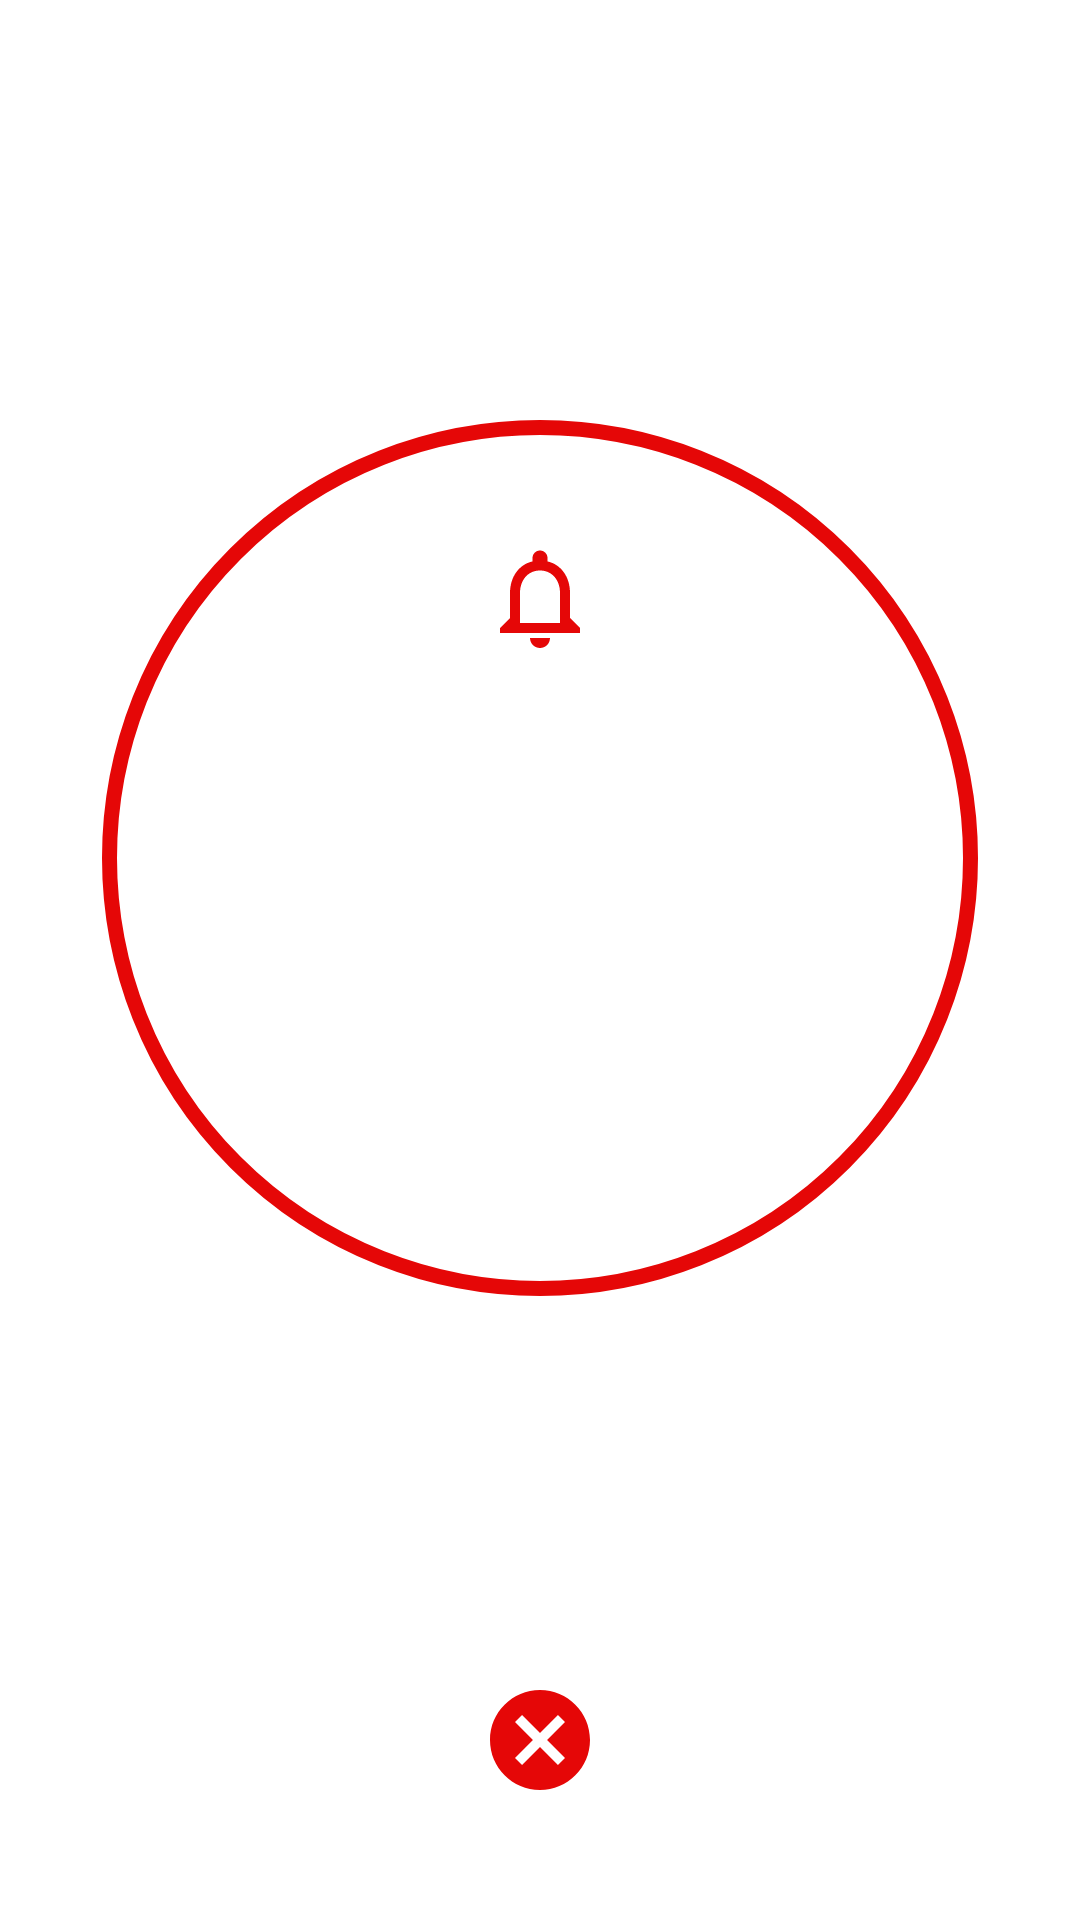

Screen size 1080×1920. Icon name, then its center in pixels as (x=x, y=y):
cancel: (x=540, y=1740)
notifications none: (x=540, y=599)
